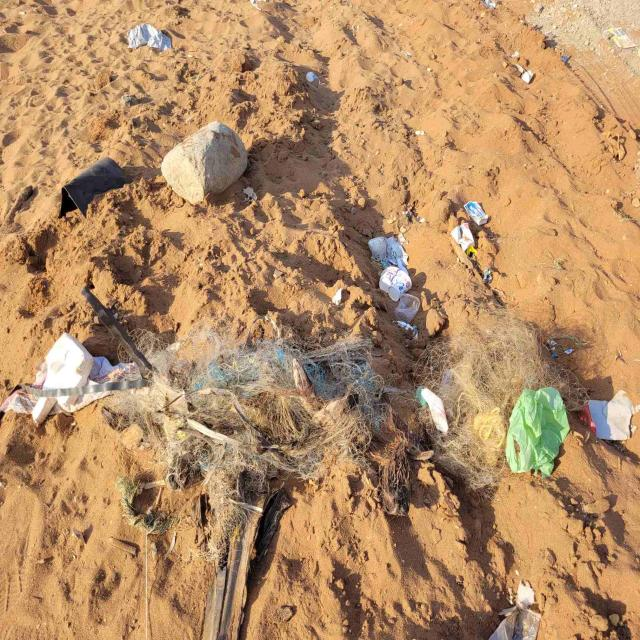biowaste: (109, 331, 410, 640), (415, 309, 588, 493)
metal: (80, 287, 154, 371)
paper: (379, 266, 412, 301), (451, 222, 475, 251), (465, 200, 490, 225)
plastic: (507, 388, 570, 478), (369, 236, 409, 272), (395, 293, 421, 323)
styrofoam: (42, 333, 92, 388), (422, 389, 449, 433)
